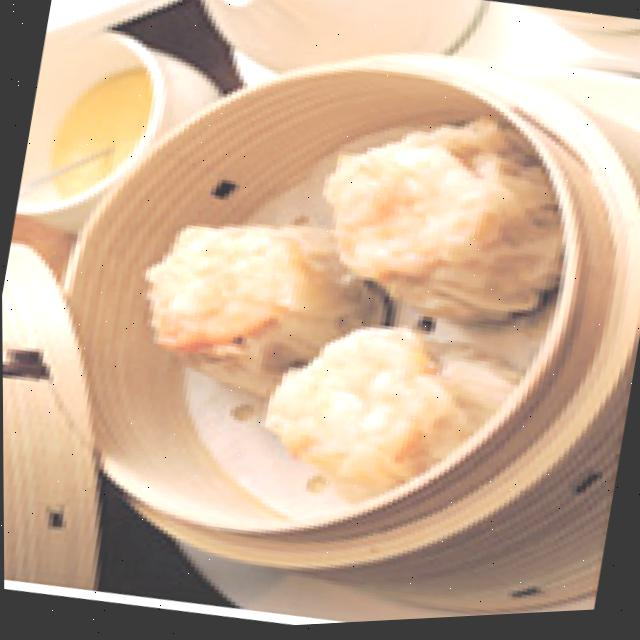带馅早点: (102, 68, 559, 532)
